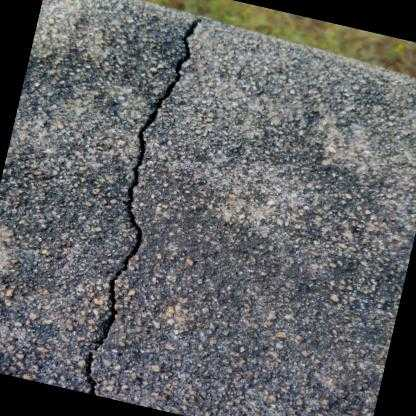crack: (83, 17, 202, 396)
